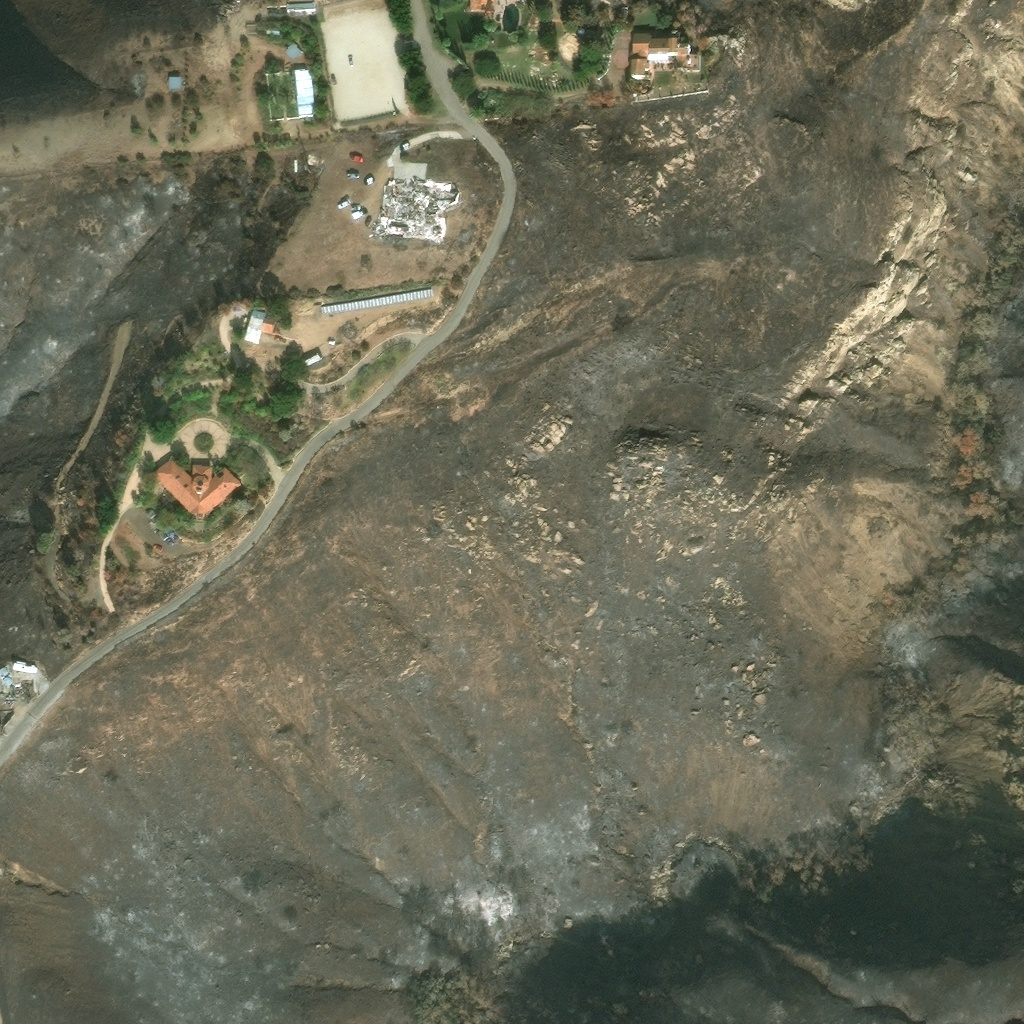0 no-damage: (151, 456, 241, 524), (628, 29, 699, 81), (242, 309, 273, 346), (292, 68, 315, 117), (286, 2, 315, 15), (283, 42, 302, 61), (468, 0, 496, 11), (213, 0, 238, 11), (302, 354, 319, 366), (167, 76, 181, 90), (2, 677, 12, 688), (0, 668, 7, 681), (245, 25, 255, 34), (265, 29, 279, 35), (0, 706, 3, 727), (327, 339, 334, 345)
3 destroyed: (374, 178, 460, 239)
